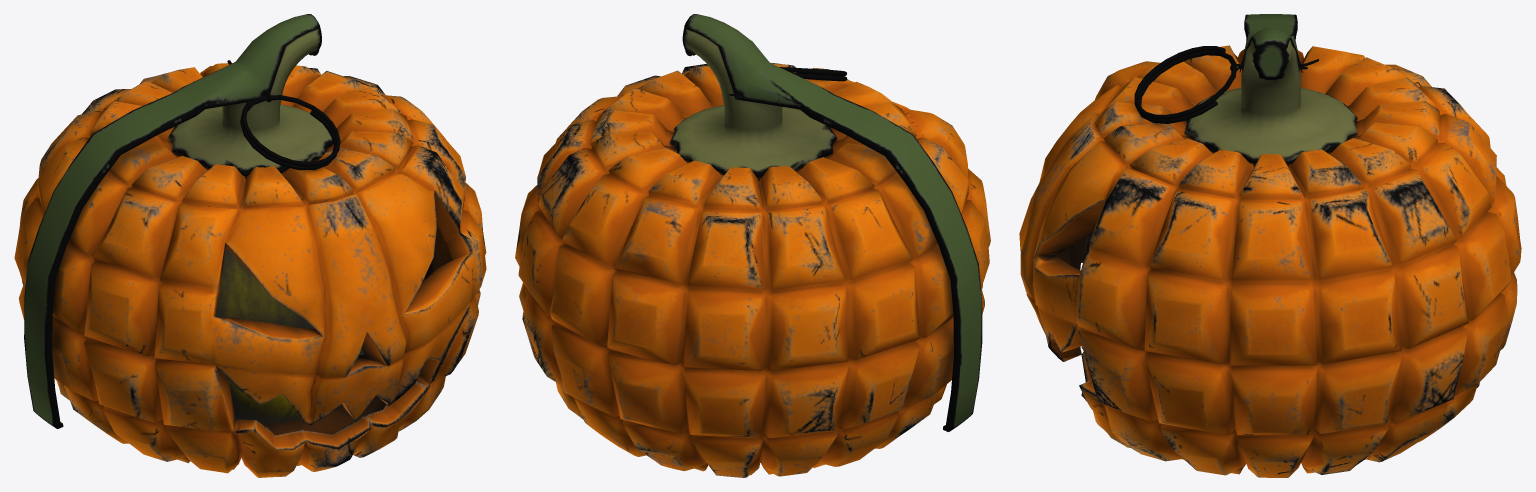
File: pumpkin.obj
The picture shows the model from 3 angles, left to right: view 1: azimuth 30°, elevation 25°; view 2: azimuth 150°, elevation 25°; view 3: azimuth 270°, elevation 25°; orthographic projection. The views are drawn at different scales.
Visible parts, largest first — view 1: pumbkin, lever, stalik, filling, pin; view 2: pumbkin, lever, stalik, pin; view 3: pumbkin, stalik, lever, pin.
Boxes of the visible parts, x1,y1,x2,y2 form: pumbkin: [14, 63, 486, 477]; lever: [24, 14, 321, 428]; stalik: [168, 28, 333, 176]; filling: [215, 249, 425, 423]; pin: [227, 60, 340, 170]; pumbkin: [515, 63, 990, 477]; lever: [682, 14, 982, 431]; stalik: [669, 28, 837, 177]; pin: [729, 67, 847, 99]; pumbkin: [1019, 45, 1521, 477]; stalik: [1184, 40, 1357, 163]; lever: [1239, 14, 1302, 80]; pin: [1134, 46, 1319, 123].
Size of the model in its own units: 2.15 by 1.91 by 2.1.
